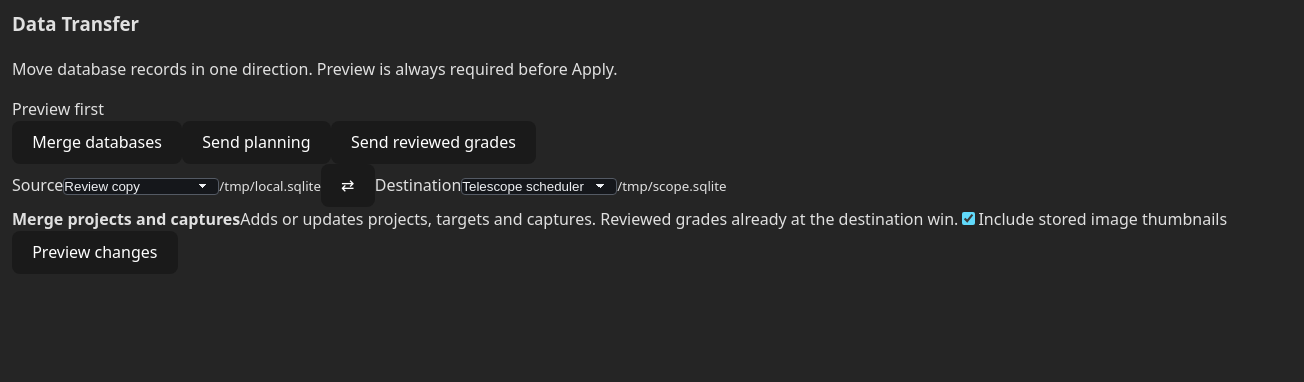
SchedulerSyncControls › previews before applying a planning-only push
Click the button "Send planning". click: (256, 142)
box: [182,120,331,164]
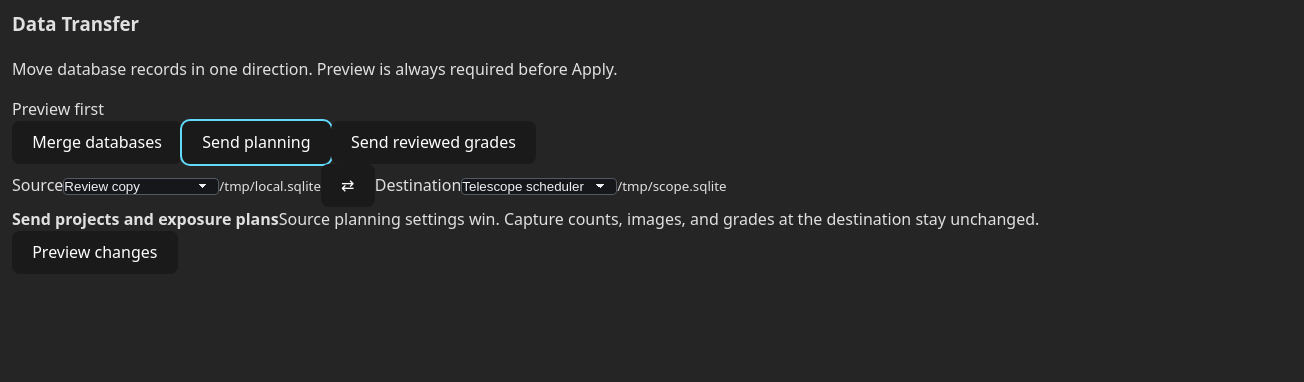
Click the button "Preview changes". click: (95, 252)
box: [12,231,178,274]
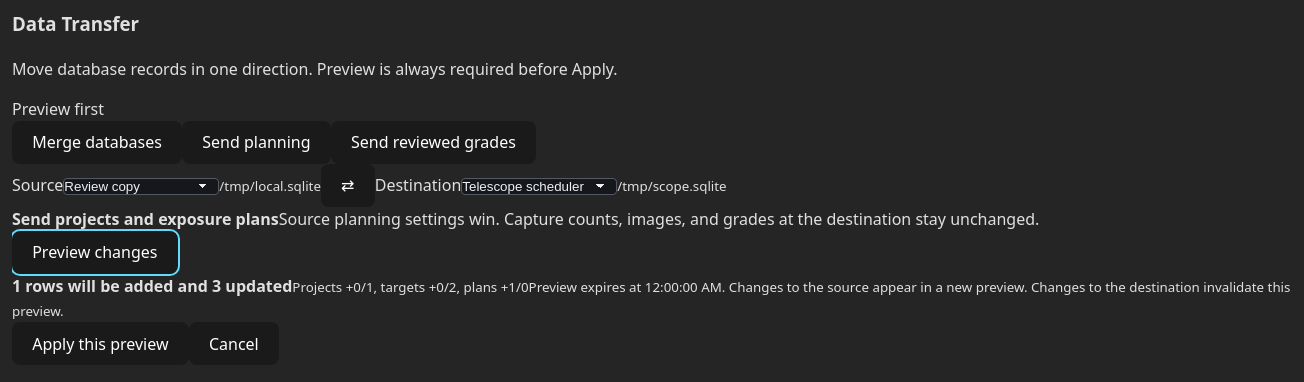
Expected: the text "1 rows will be added and 3 updated" is shown, [12,275,292,297]
Click the button "Apply this preview". click: (100, 344)
box: [12,322,189,365]
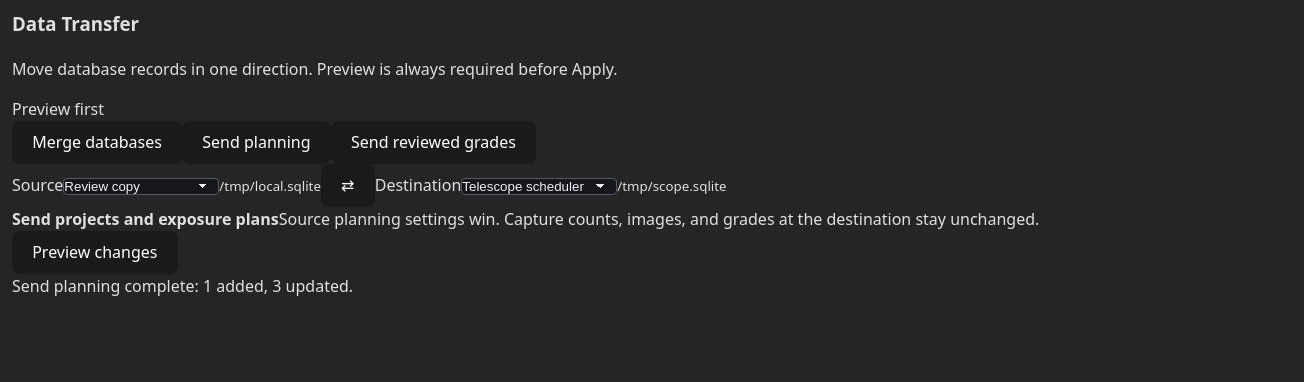
Expected: the text "Send planning complete: 1 added, 3 updated." is shown, [12,275,353,297]
